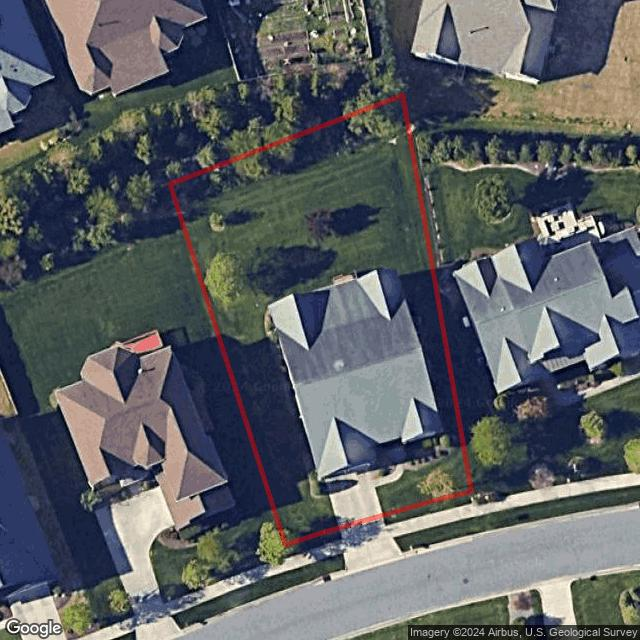Driveway: (324, 464, 384, 529)
Extra-Driveway: (340, 514, 404, 571)
Extra-Lawn: (392, 515, 485, 553), (384, 491, 473, 525), (292, 553, 346, 585), (285, 527, 342, 556)
Extra-Sidewalk: (385, 503, 478, 538), (289, 537, 343, 570)
House: (266, 263, 447, 482)
Lawn: (169, 95, 472, 546)
Other: (402, 449, 453, 470), (308, 472, 330, 498), (209, 214, 228, 232)
Sidewalk: (373, 463, 404, 486)
